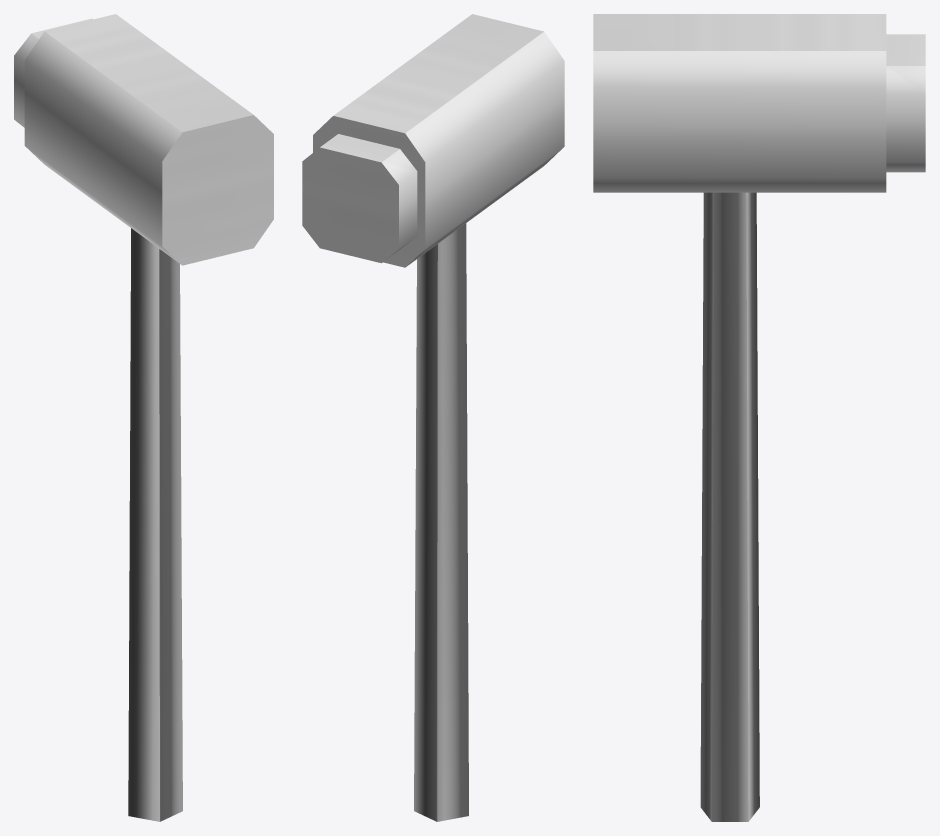
File: tool_hammer.obj
3 renders of one model, left to right at view 1: azimuth 30°, elevation 25°; view 2: azimuth 150°, elevation 25°; view 3: azimuth 270°, elevation 25°, orthographic. The views are drawn at different scales.
Parts seen in each view (by area): view 1: source_component_01, source_component_00, source_component_02; view 2: source_component_01, source_component_00, source_component_02; view 3: source_component_01, source_component_00, source_component_02.
Boxes of the visible parts, <box> form: source_component_01: <box>24,14,273,265</box>; source_component_00: <box>128,228,182,821</box>; source_component_02: <box>14,18,93,127</box>; source_component_01: <box>313,14,564,267</box>; source_component_00: <box>414,223,468,821</box>; source_component_02: <box>302,134,417,263</box>; source_component_01: <box>593,14,886,192</box>; source_component_00: <box>700,192,759,821</box>; source_component_02: <box>886,34,925,172</box>.
Bounding box in the file's own units: 0.07 × 0.44 × 0.17.
